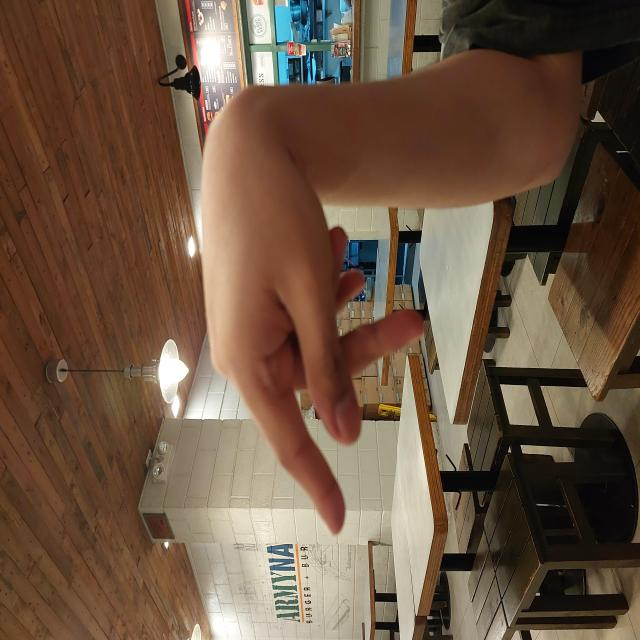P: (104, 198, 514, 426)
